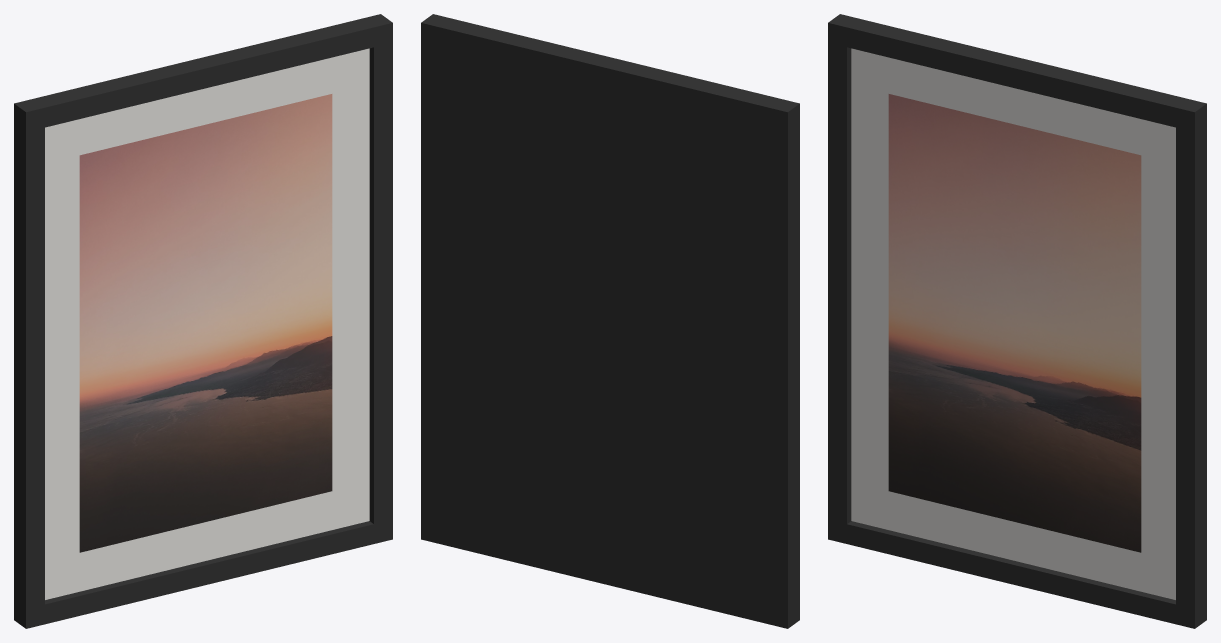
Rendered from fran-ovan-40.gltf.
The picture shows the model from 3 angles, left to right: view 1: azimuth 30°, elevation 25°; view 2: azimuth 150°, elevation 25°; view 3: azimuth 330°, elevation 25°; orthographic projection.
Parts seen in each view (by area): view 1: tavla; view 2: tavla; view 3: tavla.
Part boxes in pixels (<box>): tavla: <box>14,14,392,628</box>; tavla: <box>421,14,799,628</box>; tavla: <box>828,14,1206,628</box>.
Bounding box in the file's own units: 0.3864 × 0.52 × 0.022.
3 materials, 1 textured.
